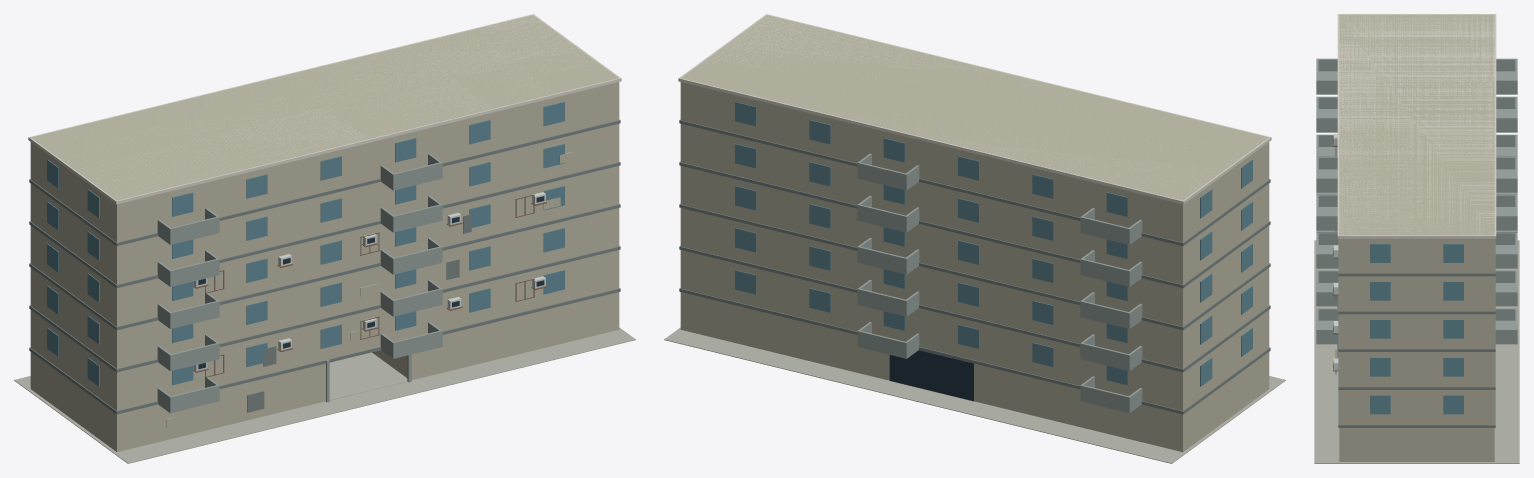
3 views of the same model, side by side, from view 1: azimuth 30°, elevation 25°; view 2: azimuth 150°, elevation 25°; view 3: azimuth 270°, elevation 25° (orthographic). The views are drawn at different scales.
Visible parts, largest first — view 1: HK-LOW-01-faded, HK-LOW-01-glazing, HK-LOW-01-concrete, HK-LOW-01-patch, HK-LOW-01-stone, HK-LOW-01-ivory, HK-LOW-01-rust, HK-LOW-01-white; view 2: HK-LOW-01-faded, HK-LOW-01-glazing, HK-LOW-01-concrete, HK-LOW-01-patch, HK-LOW-01-stone, HK-LOW-01-ivory, HK-LOW-01-dark; view 3: HK-LOW-01-faded, HK-LOW-01-ivory, HK-LOW-01-concrete, HK-LOW-01-stone, HK-LOW-01-glazing, HK-LOW-01-patch, HK-LOW-01-white.
Boxes of the visible parts, x1,y1,x2,y2 form: HK-LOW-01-faded: [30, 15, 619, 452]; HK-LOW-01-glazing: [47, 101, 564, 386]; HK-LOW-01-concrete: [157, 153, 442, 413]; HK-LOW-01-patch: [29, 119, 620, 414]; HK-LOW-01-stone: [14, 327, 635, 463]; HK-LOW-01-ivory: [28, 14, 621, 360]; HK-LOW-01-rust: [193, 194, 546, 377]; HK-LOW-01-white: [193, 192, 545, 371]; HK-LOW-01-faded: [680, 15, 1269, 452]; HK-LOW-01-glazing: [735, 101, 1252, 386]; HK-LOW-01-concrete: [857, 153, 1142, 413]; HK-LOW-01-patch: [679, 119, 1270, 414]; HK-LOW-01-stone: [664, 327, 1285, 463]; HK-LOW-01-ivory: [678, 14, 1271, 363]; HK-LOW-01-dark: [889, 350, 973, 401]; HK-LOW-01-faded: [1338, 14, 1494, 461]; HK-LOW-01-ivory: [1337, 14, 1496, 238]; HK-LOW-01-concrete: [1316, 58, 1517, 358]; HK-LOW-01-stone: [1314, 240, 1519, 463]; HK-LOW-01-glazing: [1370, 244, 1463, 414]; HK-LOW-01-patch: [1338, 238, 1495, 427]; HK-LOW-01-white: [1333, 133, 1338, 370].
Size of the model in its own units: 36 by 17.1 by 14.
